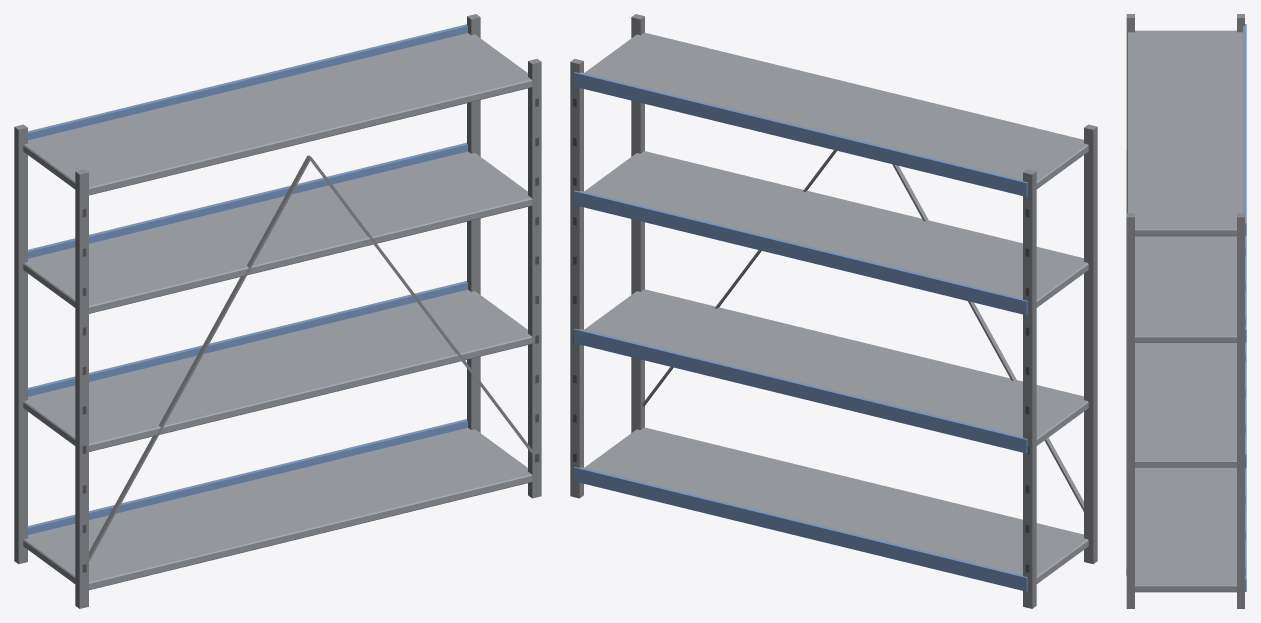
Rendered from v_bp_rack.glb.
3 views of the same model, side by side, from view 1: azimuth 30°, elevation 25°; view 2: azimuth 150°, elevation 25°; view 3: azimuth 270°, elevation 25° (orthographic). The views are drawn at different scales.
Visible parts, largest first — view 1: Rack; view 2: Rack; view 3: Rack.
Part boxes in pixels (bbox=[...]): Rack: bbox=[14, 14, 541, 608]; Rack: bbox=[570, 14, 1097, 608]; Rack: bbox=[1126, 14, 1246, 608].
Size of the model in its own units: 2.45 by 2.2 by 0.614.
